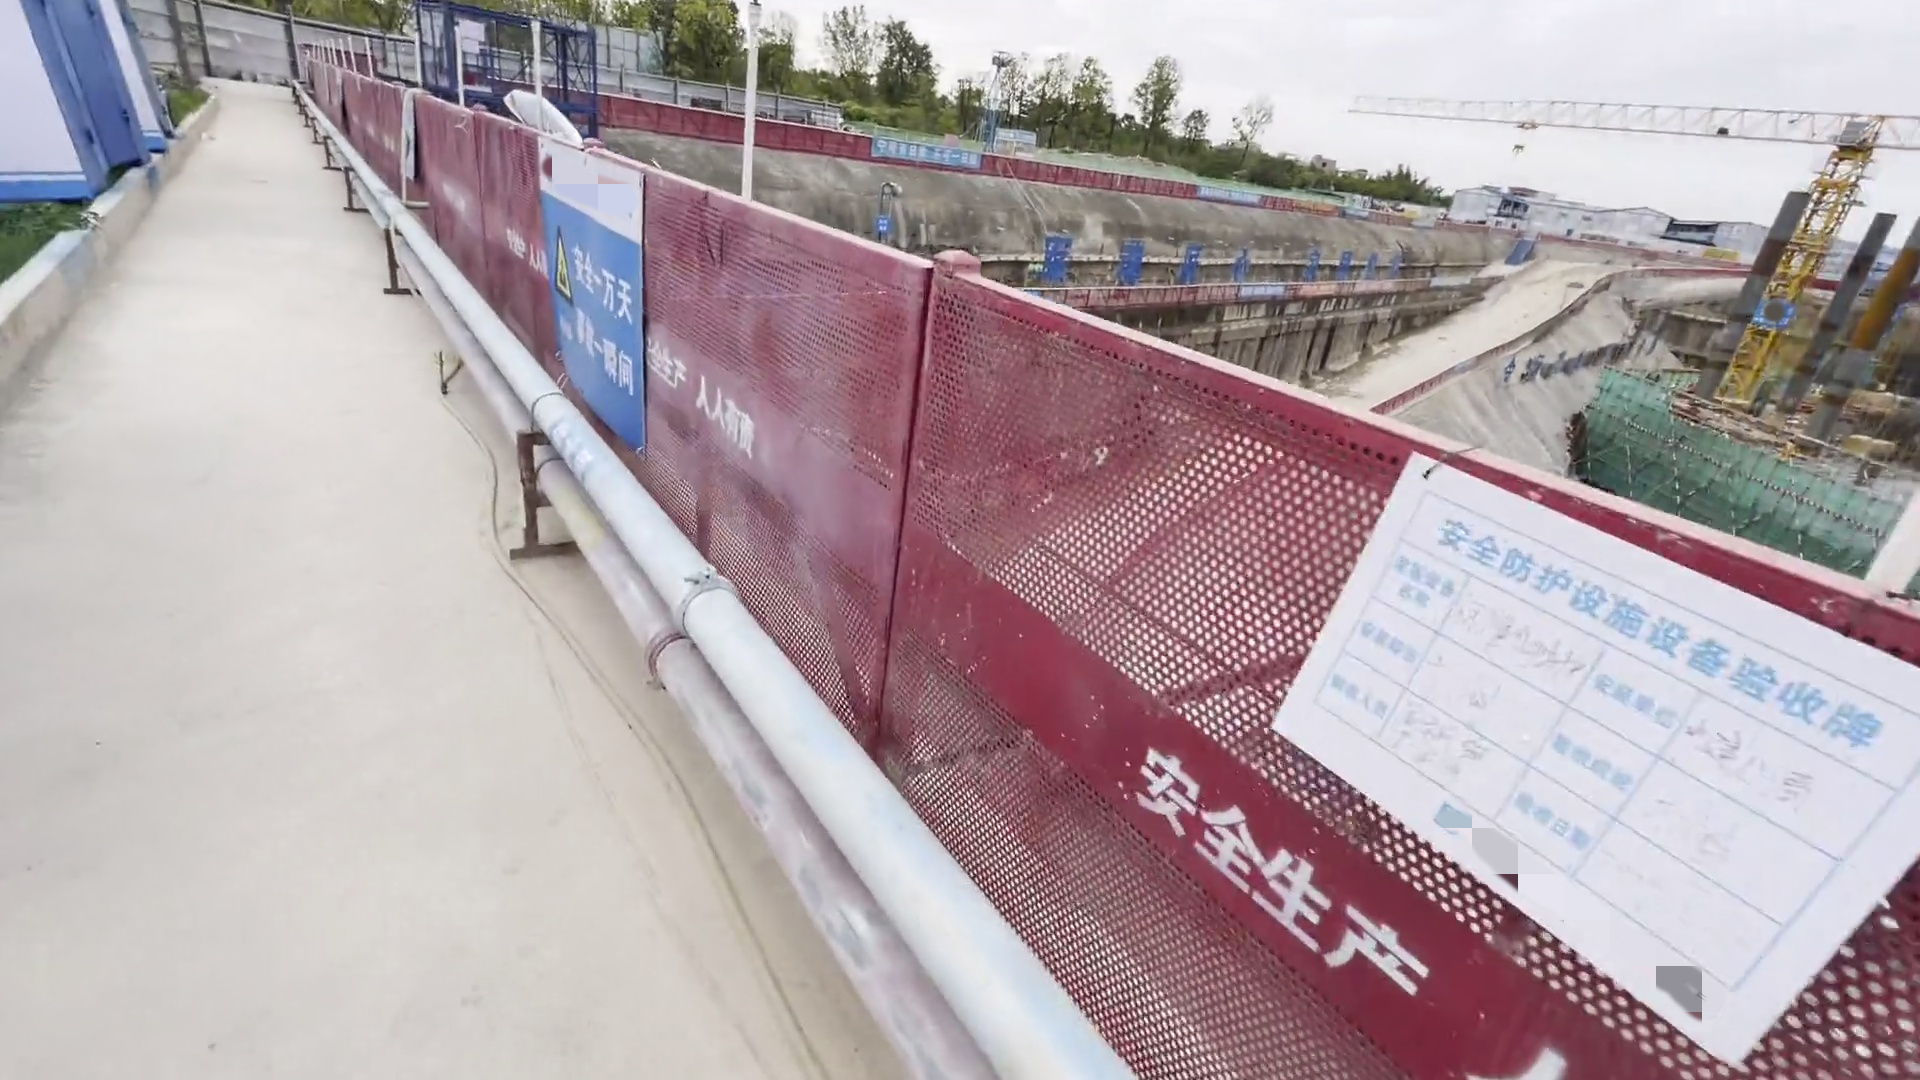fence: (349, 284, 1894, 1069)
slogan: (527, 135, 659, 471)
